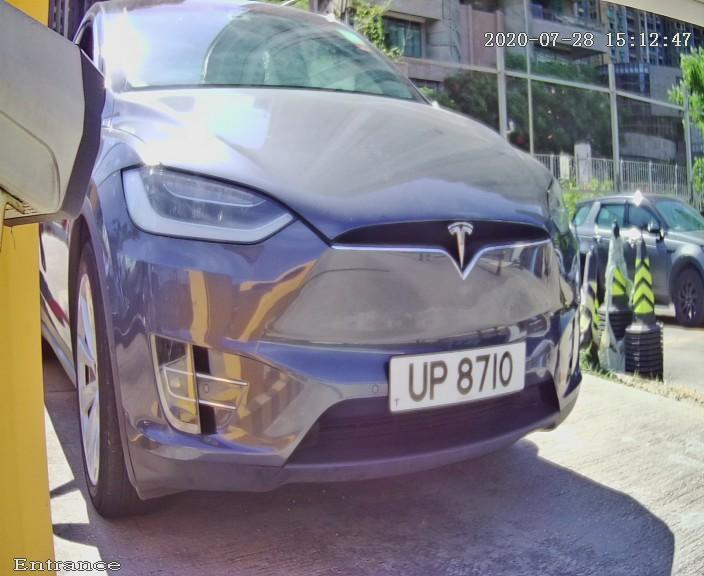privatecar: (38, 1, 623, 507)
